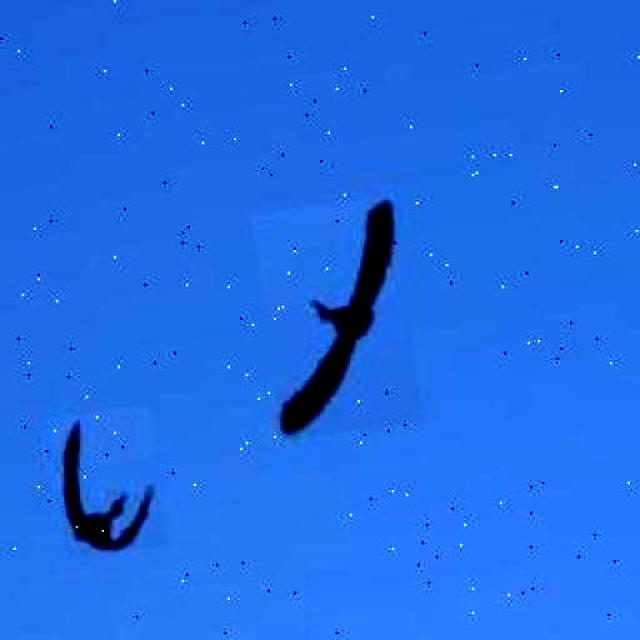airplane: (251, 195, 422, 441), (48, 405, 169, 559)
